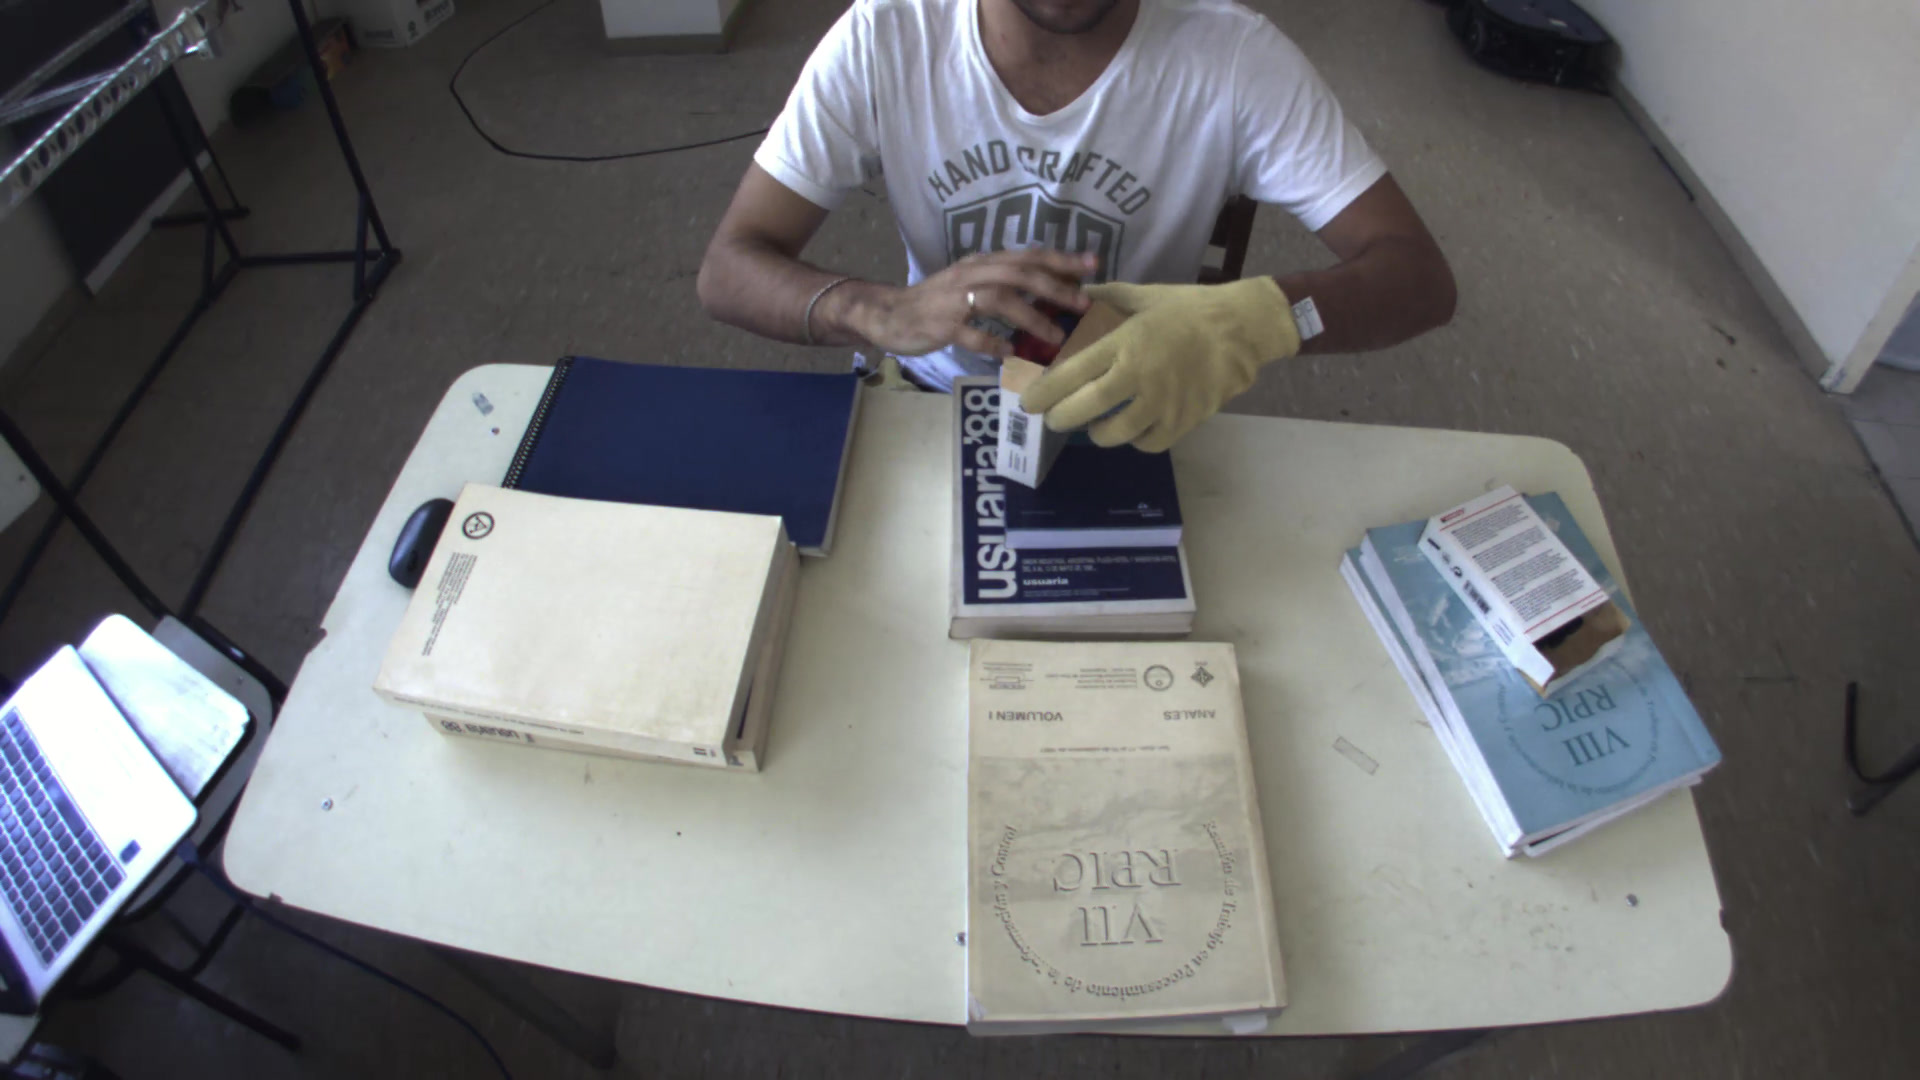hand: (1005, 257, 1320, 460), (906, 227, 1104, 353)
